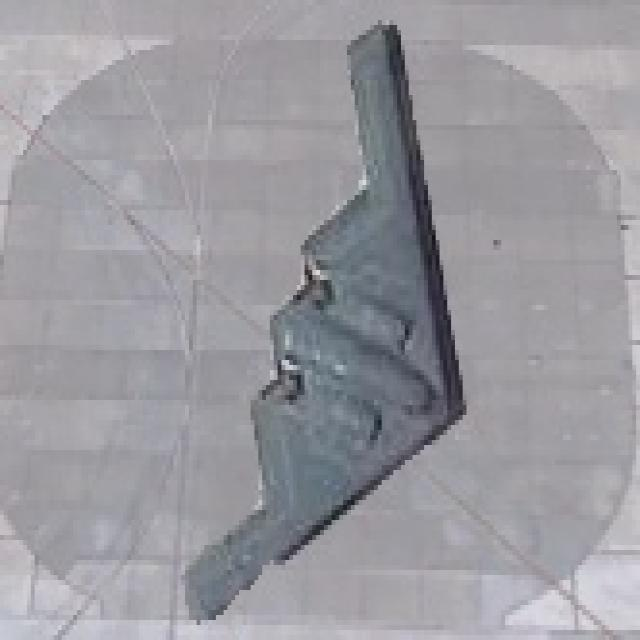B-2_TopDown: (0, 10, 636, 630), (178, 15, 470, 620)
